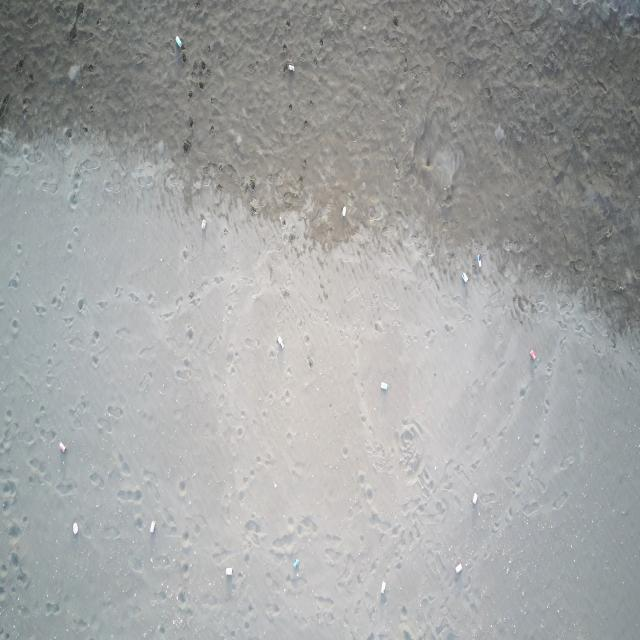Garbage: (276, 335, 283, 348), (528, 348, 535, 360), (148, 520, 155, 532), (292, 557, 299, 569), (71, 522, 77, 535), (380, 580, 386, 593), (460, 272, 467, 283), (57, 441, 64, 452), (475, 253, 480, 267), (200, 219, 206, 230), (175, 35, 180, 48), (224, 567, 232, 575), (455, 563, 462, 572), (380, 382, 387, 391), (287, 63, 293, 71), (342, 206, 346, 216), (472, 492, 475, 504)
